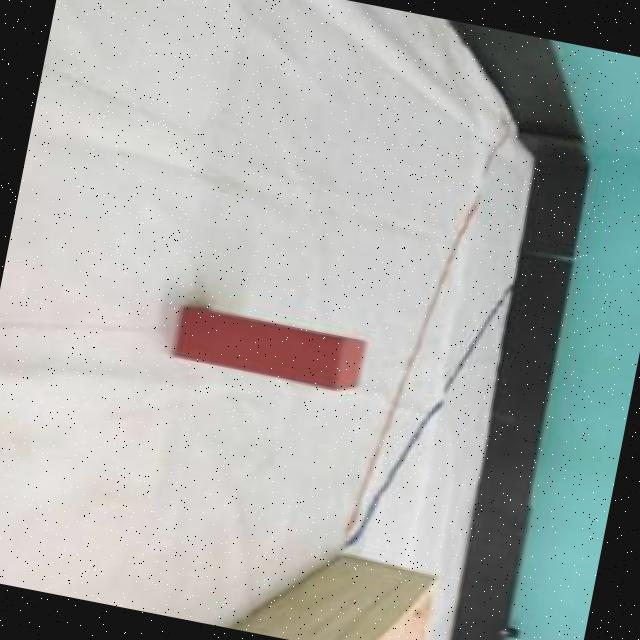redbox: (174, 306, 365, 392)
